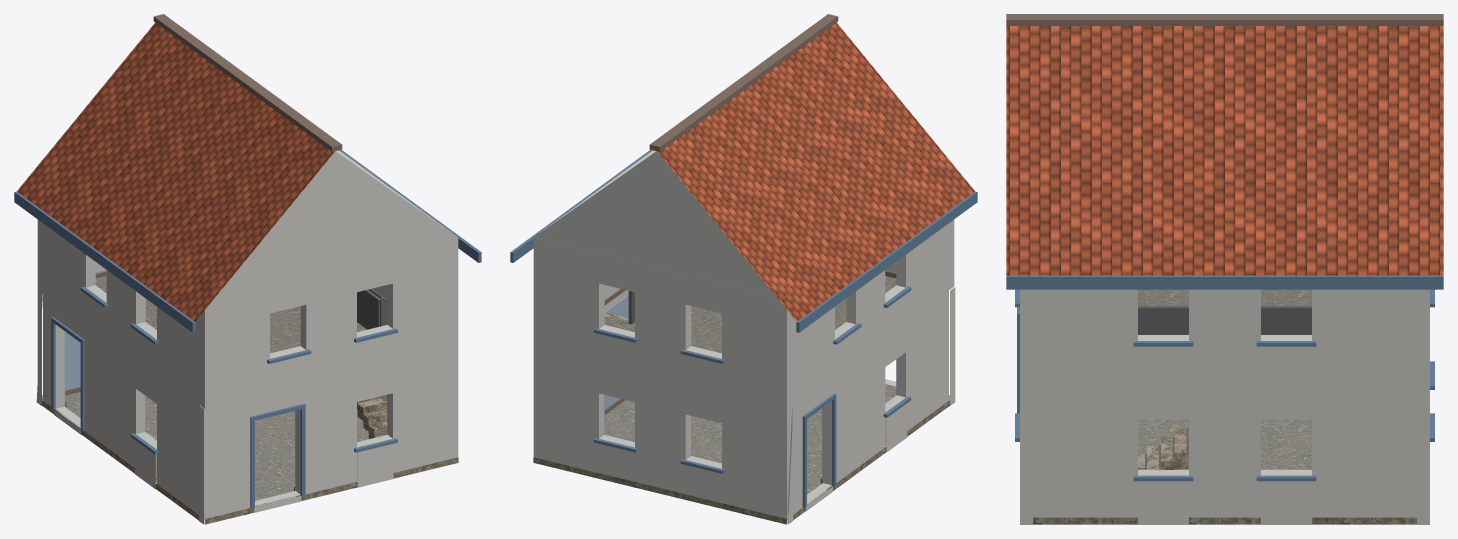
Rendered from cottage-white.windows-v1.lod0.glb.
3 views of the same model, side by side, from view 1: azimuth 30°, elevation 25°; view 2: azimuth 150°, elevation 25°; view 3: azimuth 270°, elevation 25° (orthographic). The views are drawn at different scales.
Visible parts, largest first — view 1: cottage-white; view 2: cottage-white; view 3: cottage-white.
Boxes of the visible parts, x1,y1,x2,y2 form: cottage-white: [14, 14, 481, 524]; cottage-white: [510, 14, 977, 524]; cottage-white: [1006, 14, 1443, 524].
Bounding box in the file's own units: 7.98 × 9.31 × 8.54.
4 materials, 3 textured.
